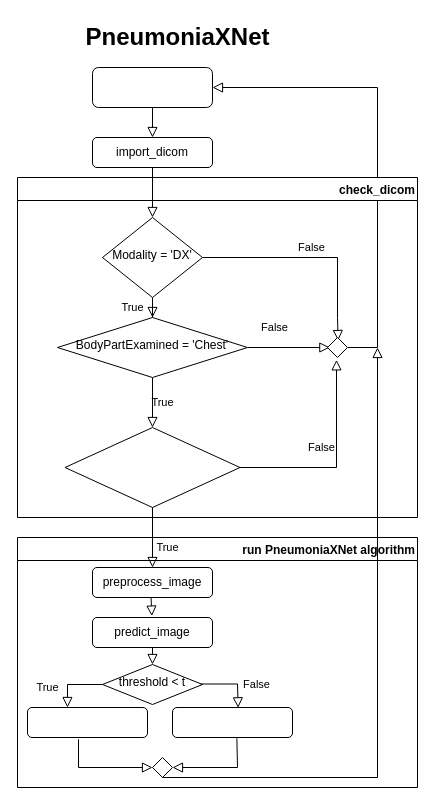
Some shapes in this 435 by 805 pixel diagram are drawn without their labels. Each missing label, with the centre of its shape:
DICOM X-ray image: the point at 152,87
No pneumonia predicted: the point at 87,722
PatientPosition in ('PA', 'AP'): the point at 152,467
Pneumonia predicted: the point at 232,722
